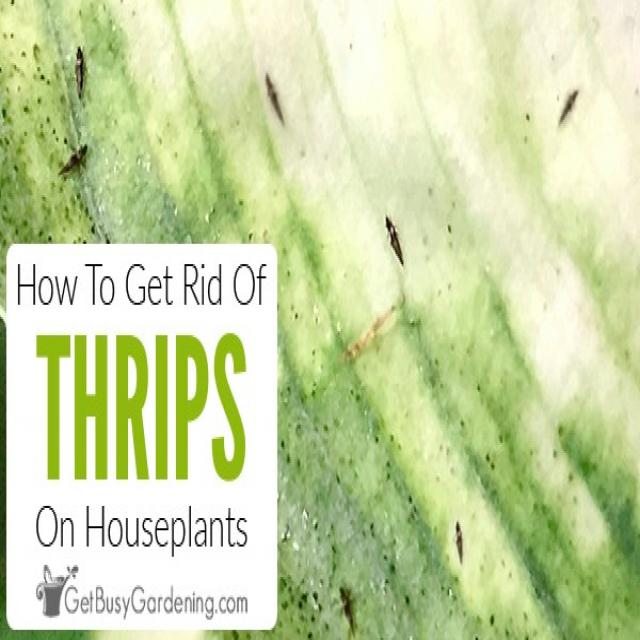Thrip-Adult-: (379, 208, 415, 285), (326, 576, 366, 638), (52, 134, 96, 189), (262, 68, 292, 135), (67, 35, 95, 106), (552, 82, 583, 134), (448, 518, 469, 569)
